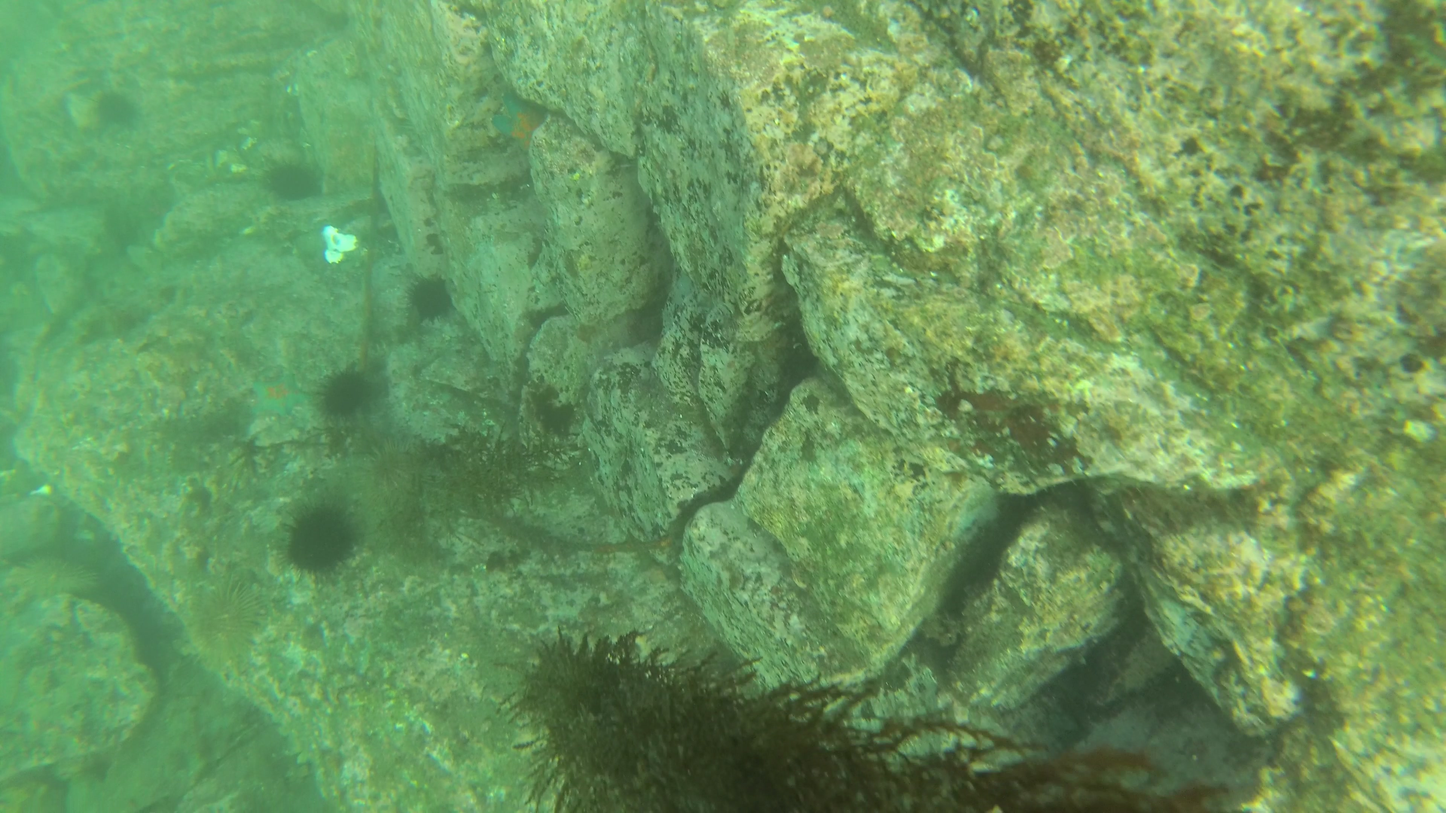holothurian: (485, 94, 551, 157), (245, 370, 315, 422)
starfish: (177, 582, 269, 667), (272, 497, 368, 577), (400, 273, 454, 326), (317, 367, 369, 417), (264, 161, 317, 203), (90, 89, 138, 129)
